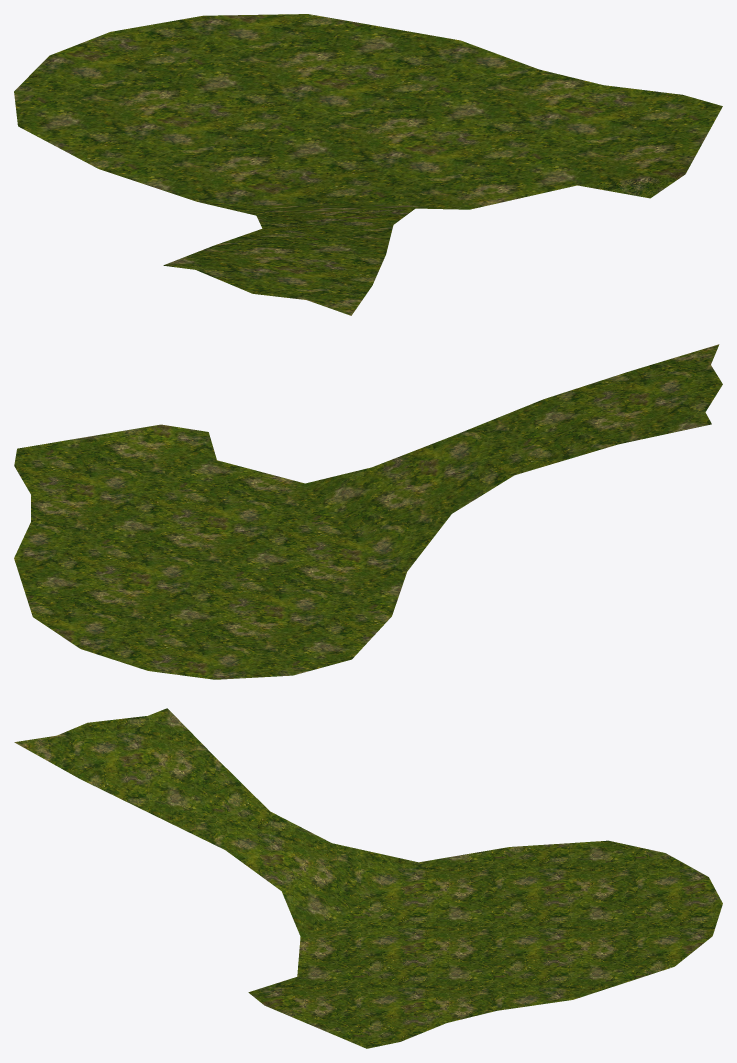
The model's file is OVERHILL_A_01_LINE60.fbx.
3 renders of one model, top to bottom at view 1: azimuth 30°, elevation 25°; view 2: azimuth 150°, elevation 25°; view 3: azimuth 270°, elevation 25°, orthographic. The views are drawn at different scales.
Visible parts, largest first — view 1: OVERHILL_A_01_LINE60; view 2: OVERHILL_A_01_LINE60; view 3: OVERHILL_A_01_LINE60.
Boxes of the visible parts, box(x1,y1,x2,y2) form: OVERHILL_A_01_LINE60: box(14, 14, 722, 315); OVERHILL_A_01_LINE60: box(14, 344, 722, 679); OVERHILL_A_01_LINE60: box(14, 708, 722, 1048).
Size of the model in its own units: 87778 by 12500 by 100767.
1 material, 1 textured.
